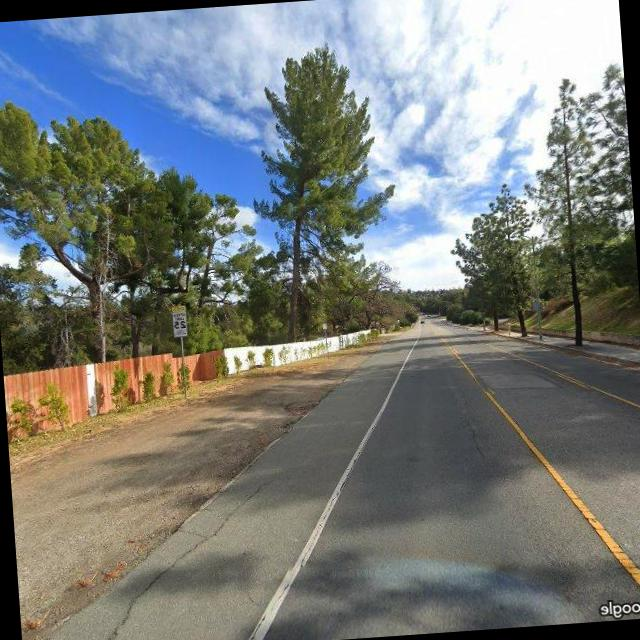pothole: (99, 470, 290, 640), (464, 414, 487, 459)
